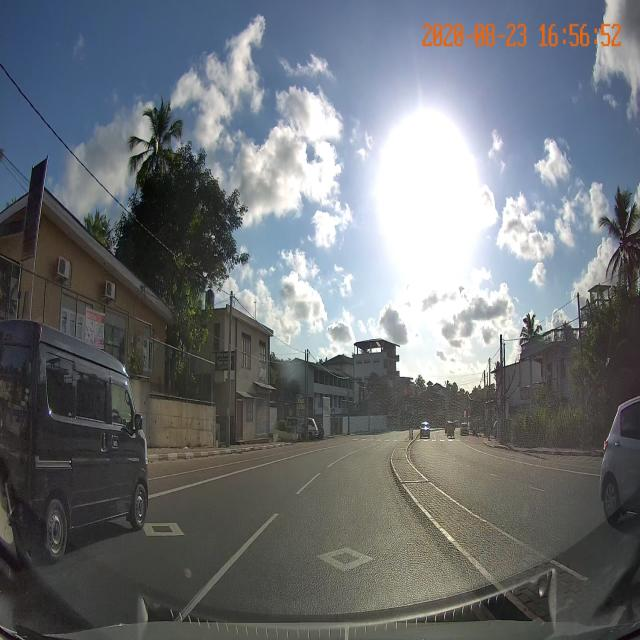Romb: (314, 545, 378, 573), (142, 521, 187, 539)
